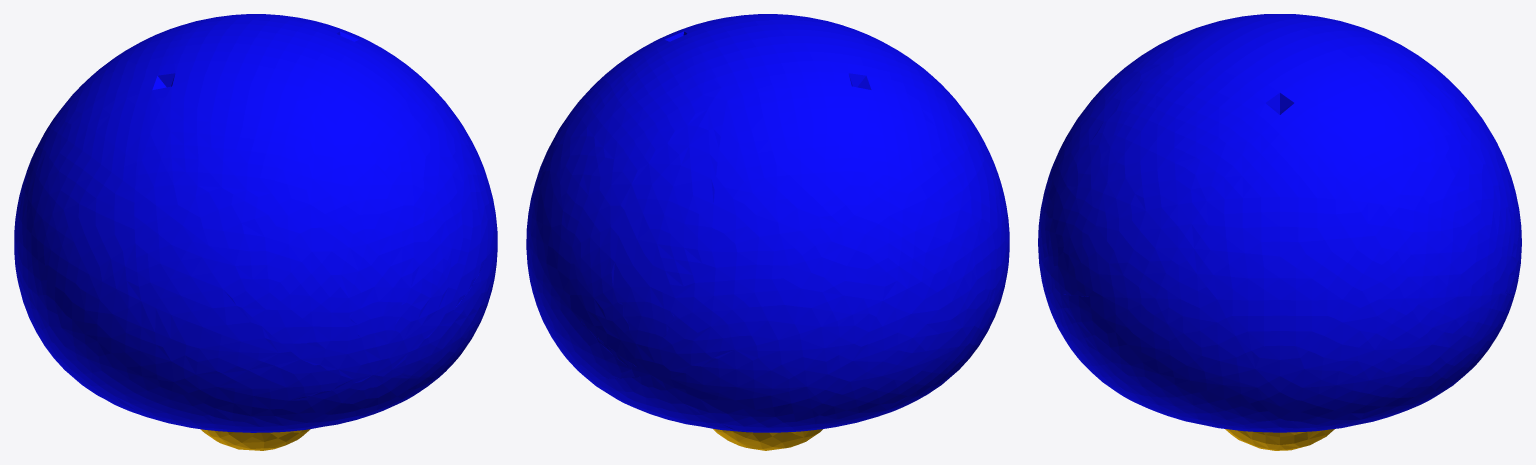
3 views of the same model, side by side, from view 1: azimuth 30°, elevation 25°; view 2: azimuth 150°, elevation 25°; view 3: azimuth 270°, elevation 25° (orthographic).
Bounding box in the file's own units: 11.77 × 10.88 × 11.76.
